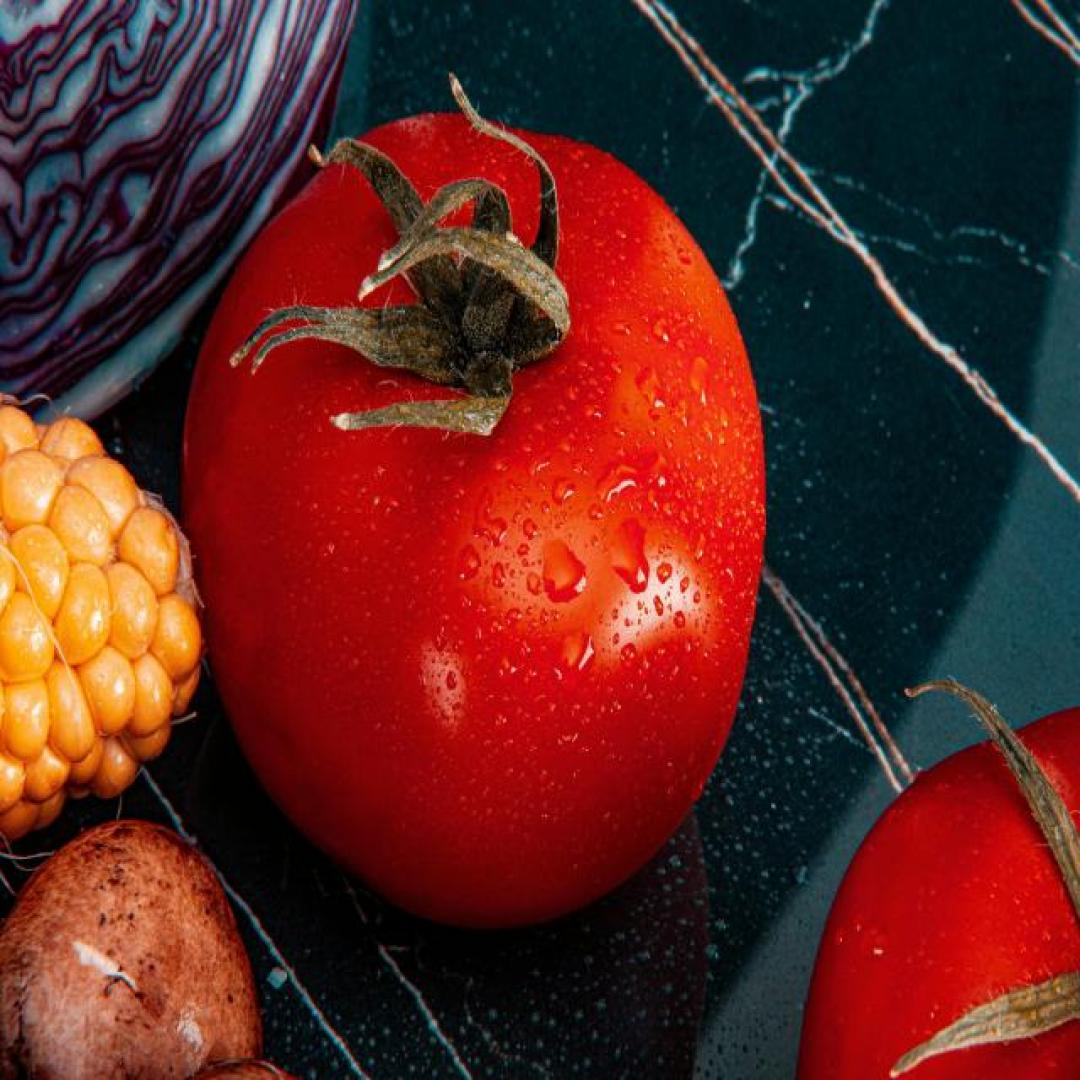matang: (179, 111, 768, 930)
